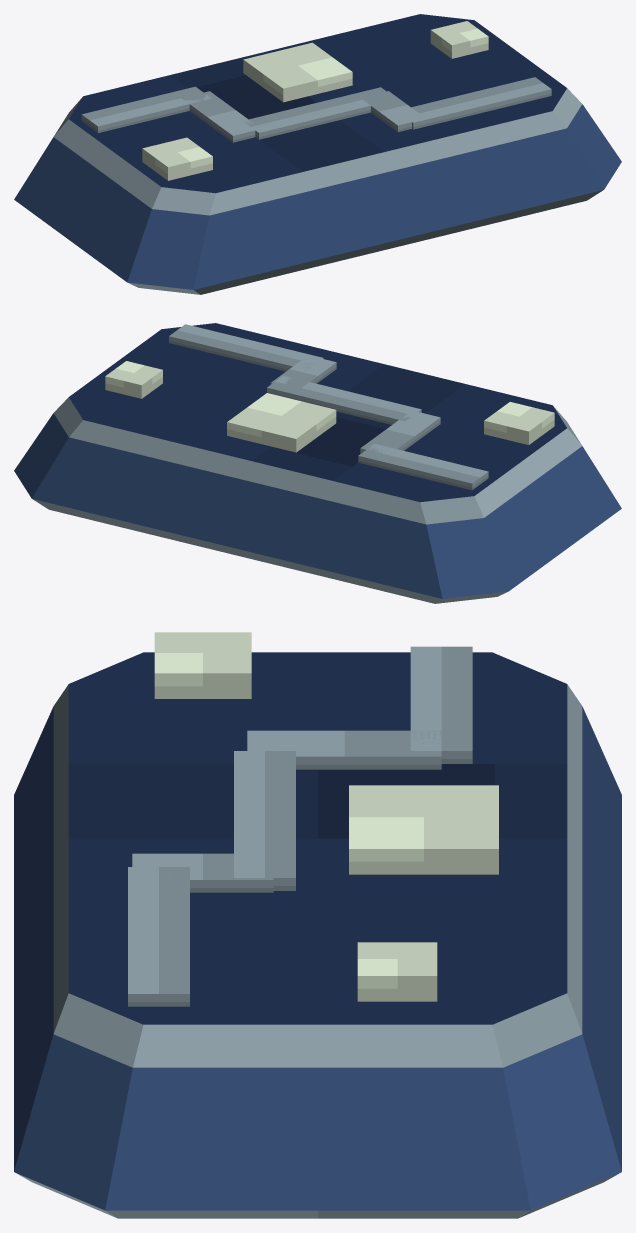
Rendered from yuanying_xinghe_ingot.obj.
The picture shows the model from 3 angles, top to bottom: view 1: azimuth 30°, elevation 25°; view 2: azimuth 150°, elevation 25°; view 3: azimuth 270°, elevation 25°; orthographic projection. The views are drawn at different scales.
Parts seen in each view (by area): view 1: ingot_body, star_ingot_seed_1, star_ingot_river_4, star_ingot_river_2, star_ingot_river_0, star_ingot_seed_0, star_ingot_river_1, star_ingot_seed_2, star_ingot_river_3; view 2: ingot_body, star_ingot_seed_1, star_ingot_river_4, star_ingot_river_2, star_ingot_river_0, star_ingot_seed_0, star_ingot_river_1, star_ingot_seed_2, star_ingot_river_3; view 3: ingot_body, star_ingot_seed_1, star_ingot_river_4, star_ingot_river_2, star_ingot_river_0, star_ingot_seed_0, star_ingot_river_1, star_ingot_seed_2, star_ingot_river_3.
Boxes of the visible parts, bbox=[...] form: ingot_body: bbox=[14, 14, 621, 294]; star_ingot_seed_1: bbox=[243, 42, 352, 102]; star_ingot_river_4: bbox=[411, 77, 551, 129]; star_ingot_river_2: bbox=[243, 87, 386, 139]; star_ingot_river_0: bbox=[81, 86, 211, 132]; star_ingot_seed_0: bbox=[142, 137, 212, 180]; star_ingot_river_1: bbox=[181, 91, 255, 142]; star_ingot_seed_2: bbox=[430, 21, 488, 58]; star_ingot_river_3: bbox=[361, 91, 425, 131]; ingot_body: bbox=[14, 323, 621, 603]; star_ingot_seed_1: bbox=[227, 393, 336, 452]; star_ingot_river_4: bbox=[169, 324, 323, 371]; star_ingot_river_2: bbox=[267, 375, 421, 424]; star_ingot_river_0: bbox=[358, 444, 488, 490]; star_ingot_seed_0: bbox=[484, 402, 554, 444]; star_ingot_river_1: bbox=[360, 411, 440, 454]; star_ingot_seed_2: bbox=[105, 361, 162, 398]; star_ingot_river_3: bbox=[270, 355, 336, 389]; ingot_body: bbox=[14, 652, 621, 1218]; star_ingot_seed_1: bbox=[349, 785, 498, 874]; star_ingot_river_4: bbox=[128, 867, 189, 1006]; star_ingot_river_2: bbox=[234, 751, 295, 890]; star_ingot_river_0: bbox=[410, 646, 472, 763]; star_ingot_seed_0: bbox=[154, 632, 251, 698]; star_ingot_river_1: bbox=[247, 730, 441, 769]; star_ingot_seed_2: bbox=[357, 942, 437, 1001]; star_ingot_river_3: bbox=[132, 853, 273, 892].
Bounding box in the file's own units: 0.38 × 0.0762 × 0.215.
